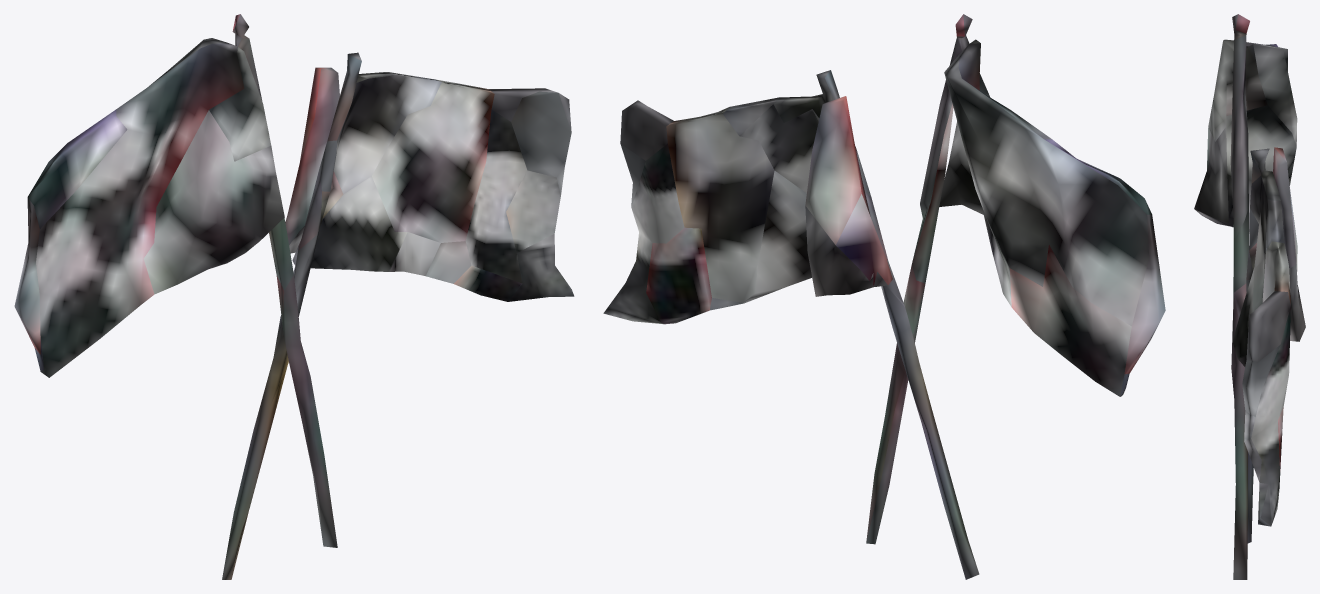
The picture shows the model from 3 angles, left to right: view 1: azimuth 30°, elevation 25°; view 2: azimuth 150°, elevation 25°; view 3: azimuth 270°, elevation 25°; orthographic projection. The views are drawn at different scales.
Size of the model in its own units: 0.4895 by 0.4733 by 0.0899.
1 material, 1 textured.
